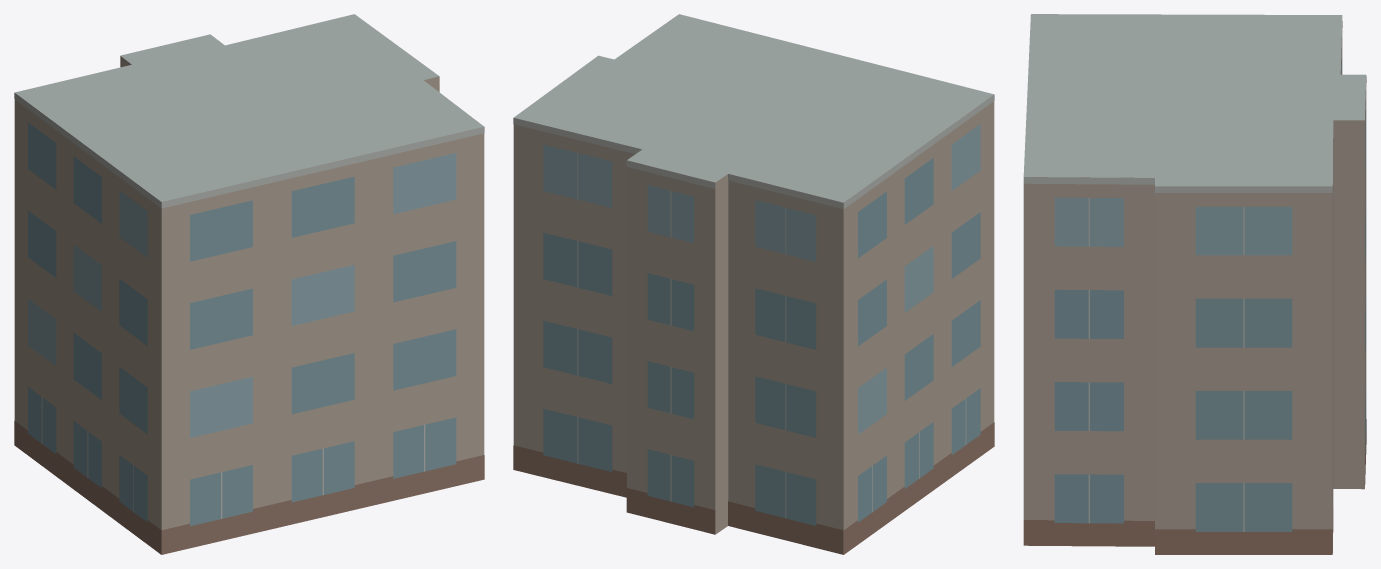
File: survey-upis-33027791.glb
3 renders of one model, left to right at view 1: azimuth 30°, elevation 25°; view 2: azimuth 150°, elevation 25°; view 3: azimuth 270°, elevation 25°, orthographic. The views are drawn at different scales.
Parts seen in each view (by area): view 1: survey-upis-33027791.tmp; view 2: survey-upis-33027791.tmp; view 3: survey-upis-33027791.tmp.
Part boxes in pixels (<box>): survey-upis-33027791.tmp: <box>14,14,484,554</box>; survey-upis-33027791.tmp: <box>513,14,994,554</box>; survey-upis-33027791.tmp: <box>1023,14,1366,554</box>.
Size of the model in its own units: 13.23 by 13.2 by 11.13.
